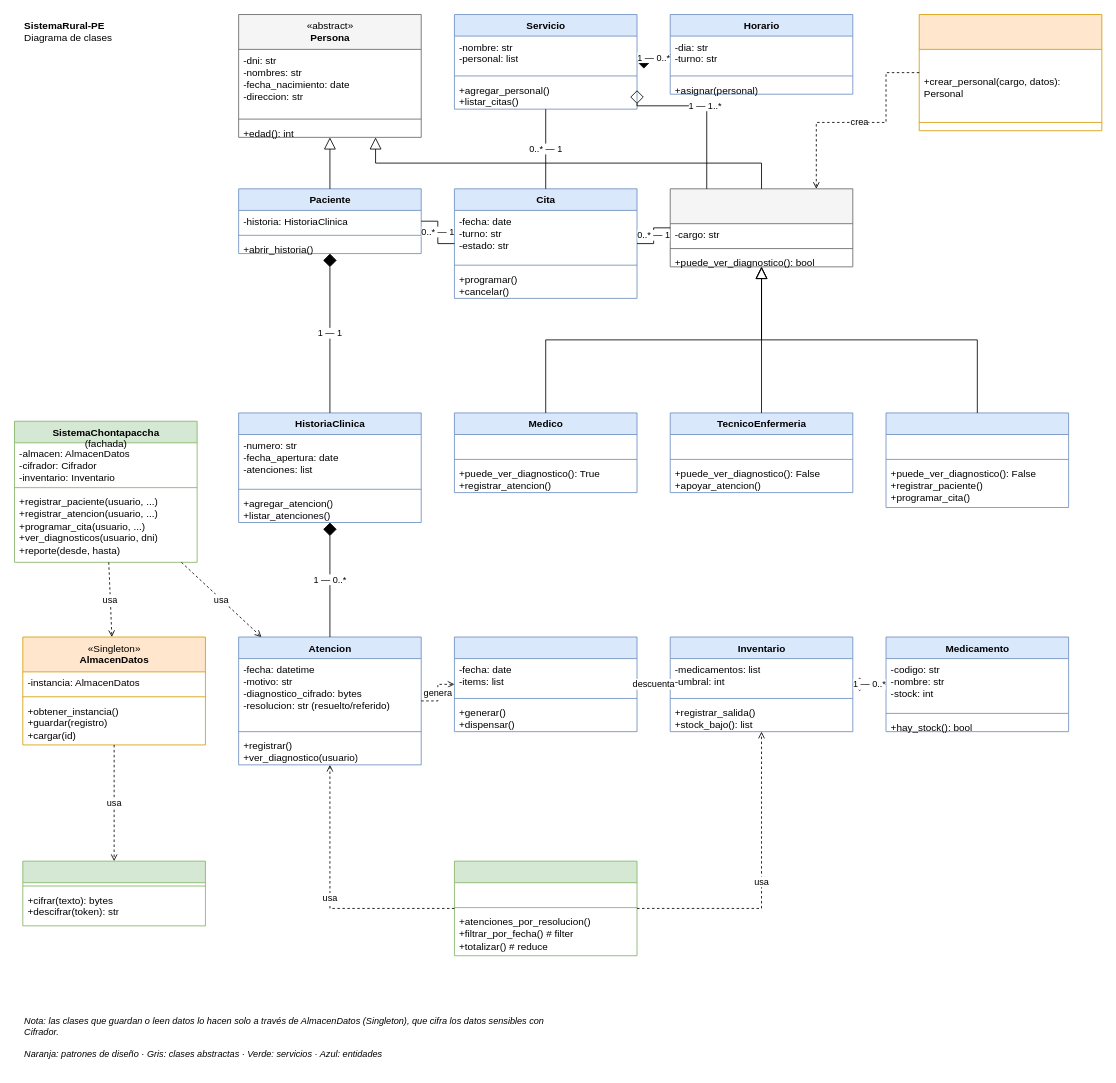
The diagram is 1116 pixels wide and 1083 high, and some of its shapes have lost their labels. The box of each missing label's shape, as (x1, y1, x2, y2) in pixels:
Admisionista: (885, 412, 1069, 508)
Cifrador: (22, 860, 205, 926)
GeneradorReporte: (454, 860, 637, 956)
Receta: (454, 636, 637, 732)
«abstract» Personal: (669, 188, 853, 267)
«Factory Method» PersonalFactory: (918, 14, 1102, 131)
